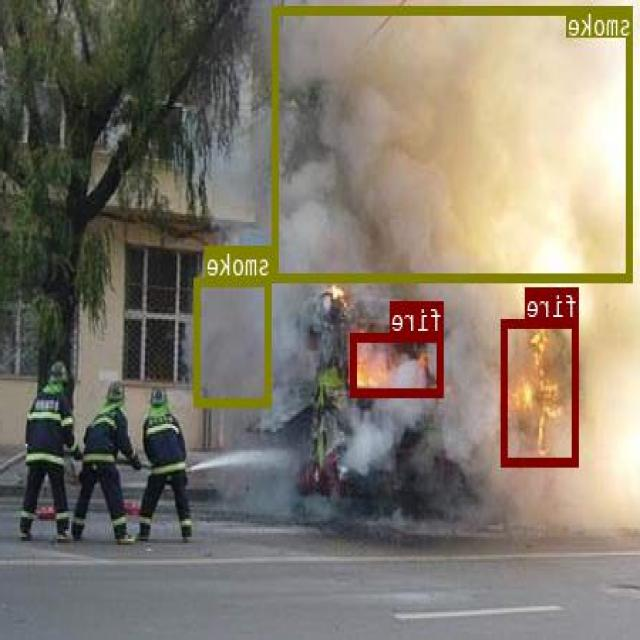fire: (503, 319, 579, 465), (351, 332, 445, 396)
smoke: (274, 6, 634, 280), (195, 276, 272, 406)
